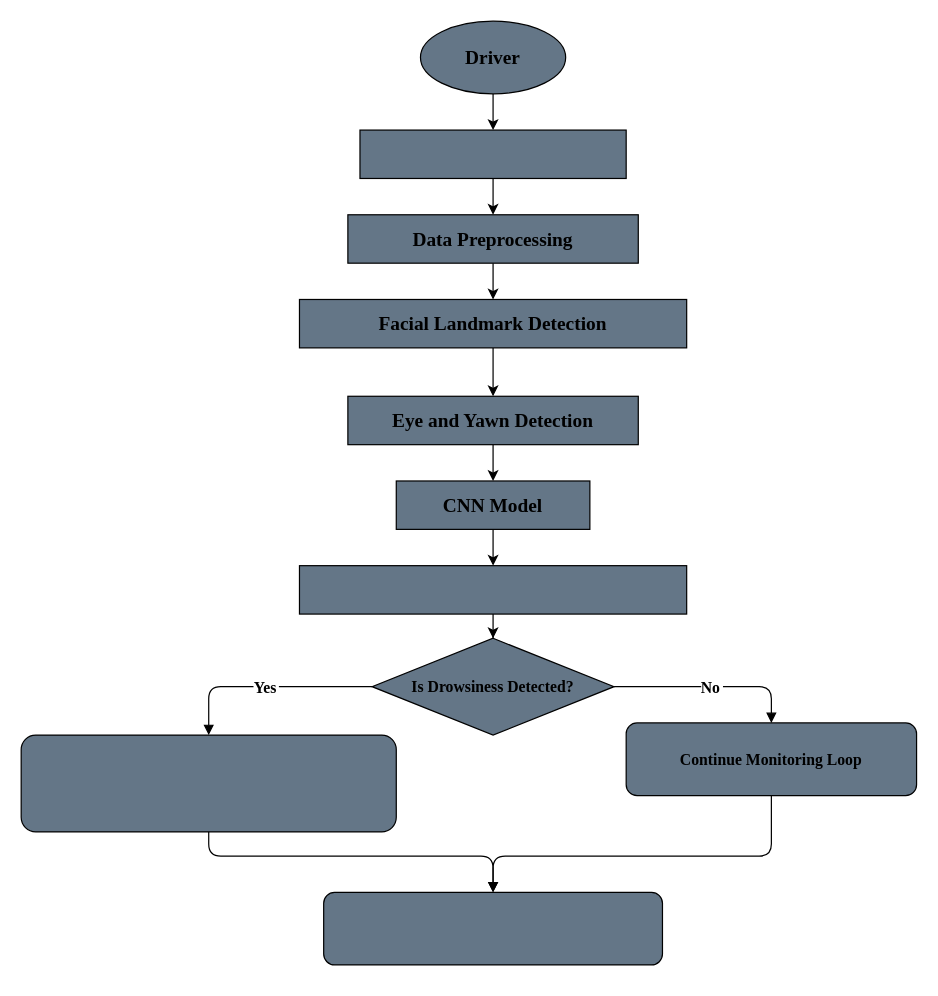
This 938x996 diagram has some shape labels left out. The box of each missing label's shape, as (x1, y1, x2, y2) in pixels:
Infrared Camera And Vibration Sensor: (359, 129, 626, 178)
Log Detection Event + Update RL Feedback: (322, 891, 662, 965)
Reinforcement Learning Model: (298, 564, 687, 614)
Trigger speaker (custom audio) + vibration motor: (20, 734, 396, 832)
